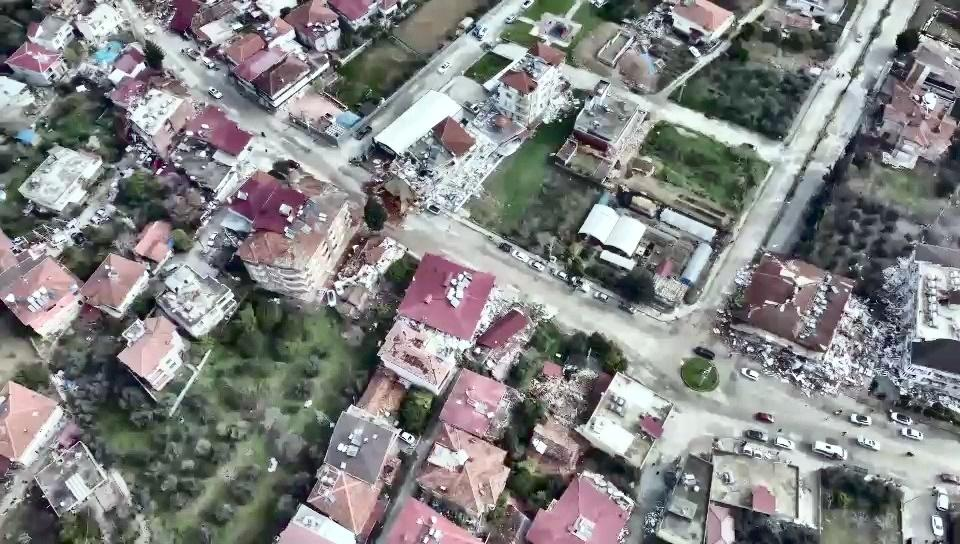kapali: (327, 162, 449, 257)
